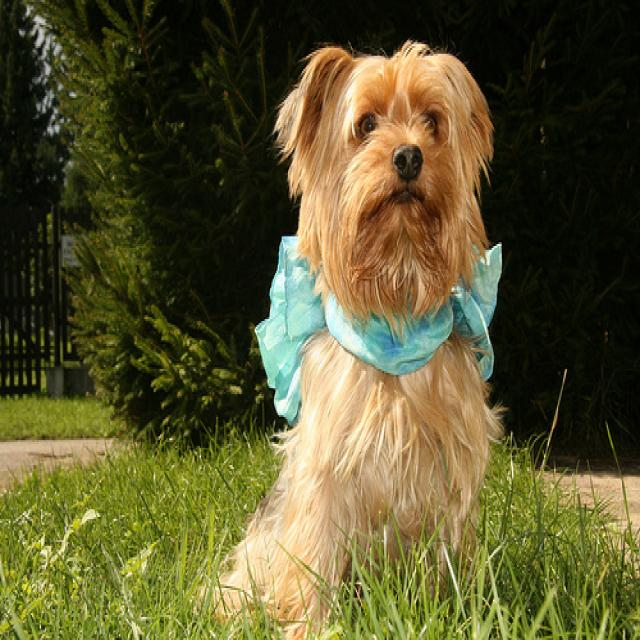dog-yorkshire_terrier: (261, 31, 498, 340)
